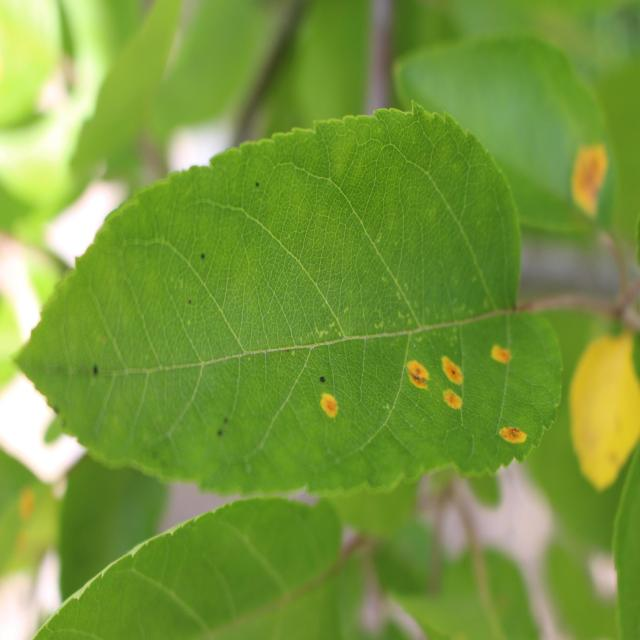rust: (12, 100, 562, 498), (392, 32, 618, 238)
